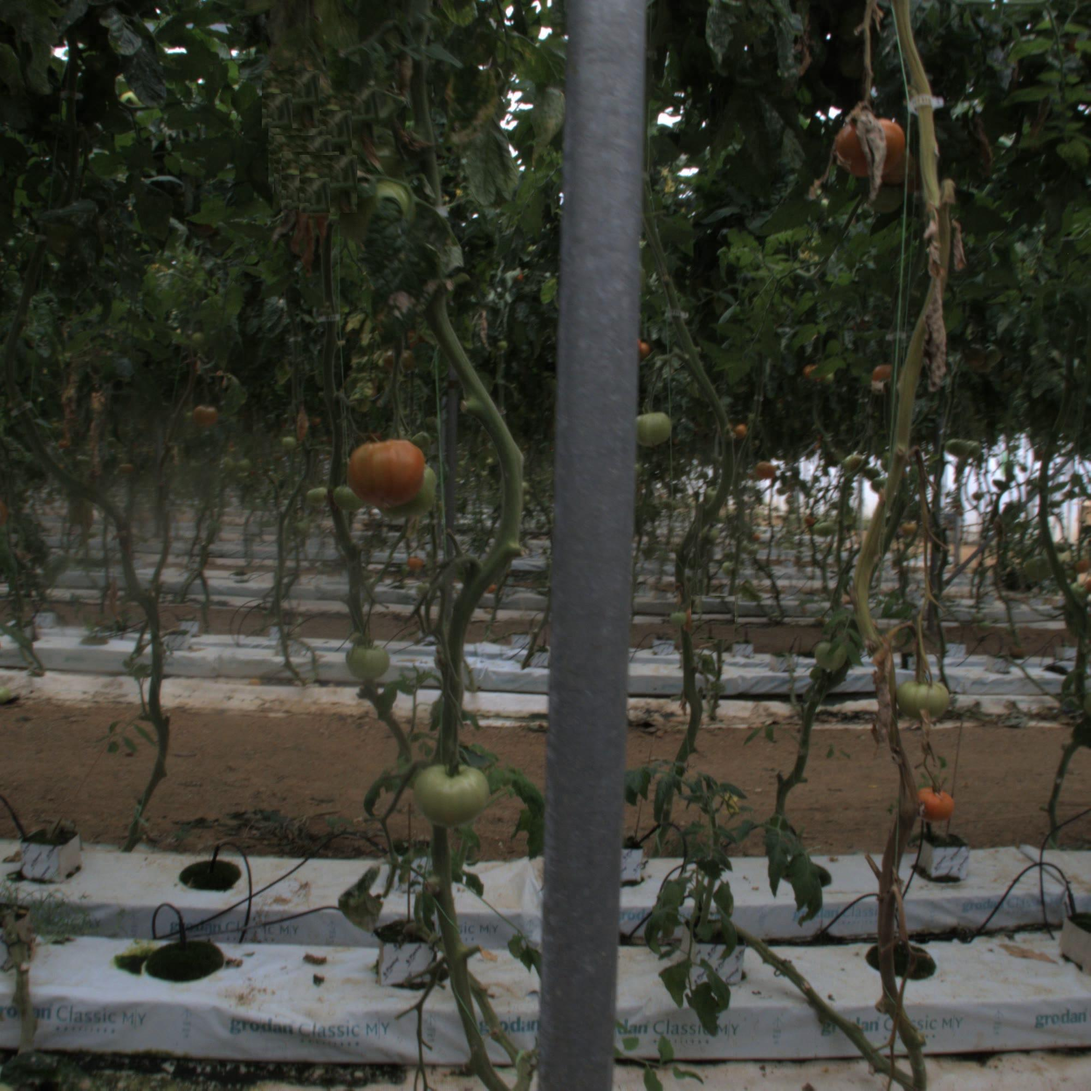fully-ripe: (838, 112, 907, 181), (914, 785, 952, 823)
semi-ripe: (346, 429, 427, 509)
unripe: (410, 752, 491, 832), (894, 669, 951, 726), (344, 635, 392, 683), (633, 409, 674, 451)
